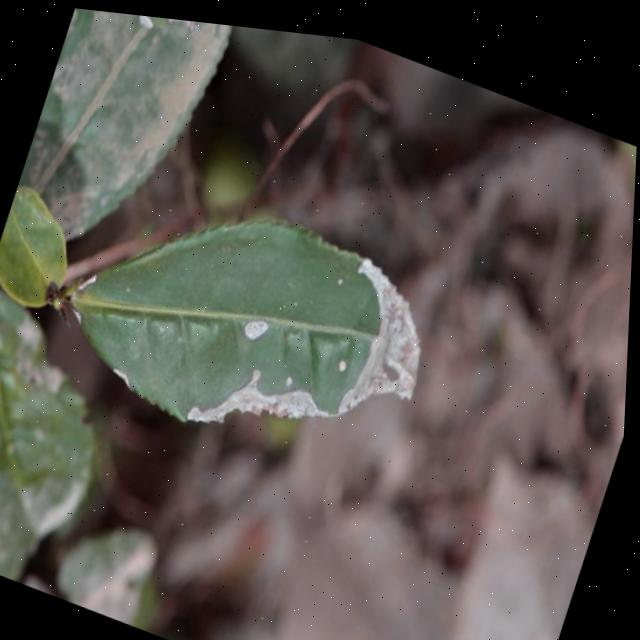Tea cloud leaf blight: (167, 149, 457, 522)
